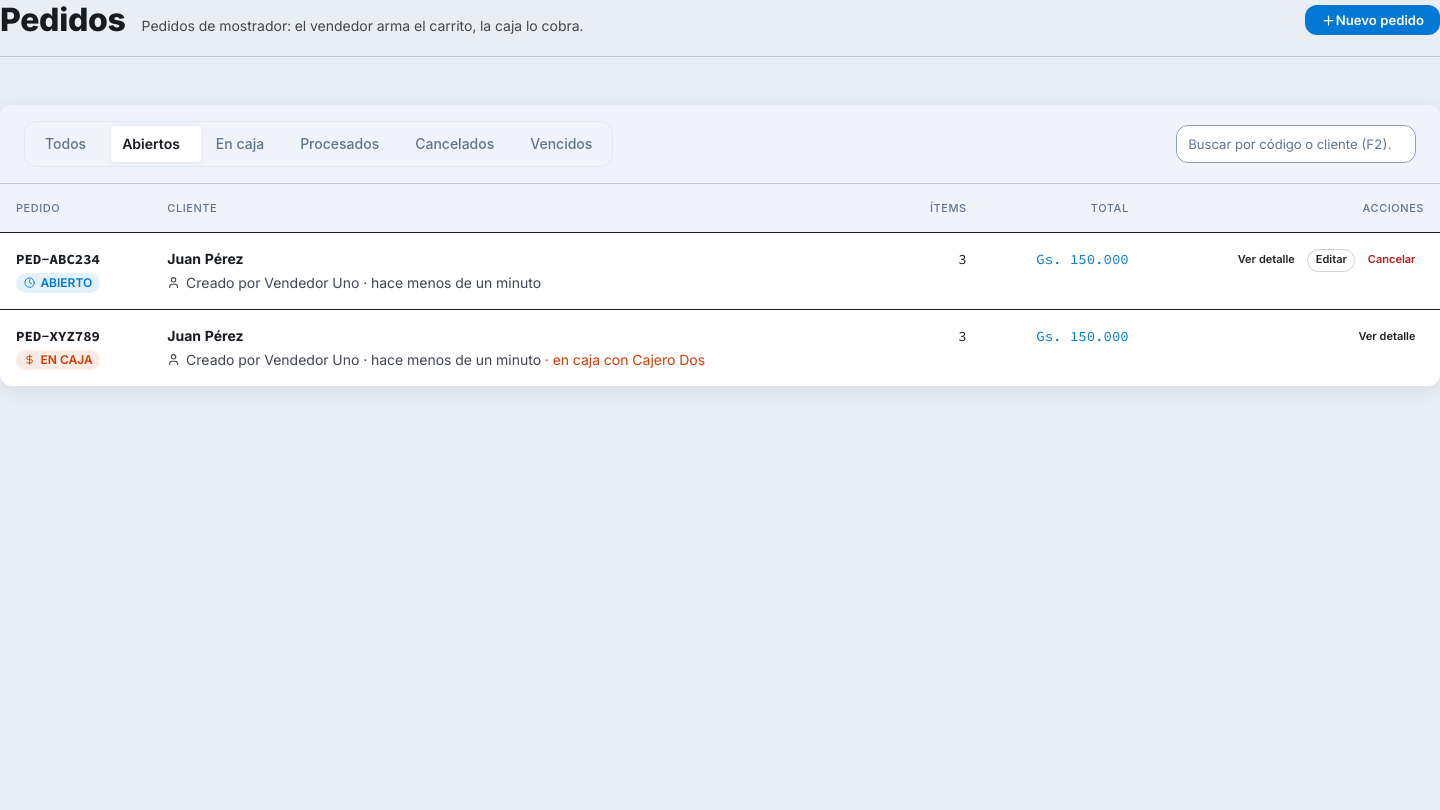
OrderBuilder — dropmenu de unidades vendibles + carrito en tabla › agrega la variante y el producto base como líneas distintas de la tabla
Click the button with test id "counterorders-new-button" at (1372, 20), box [1305,5,1439,35]
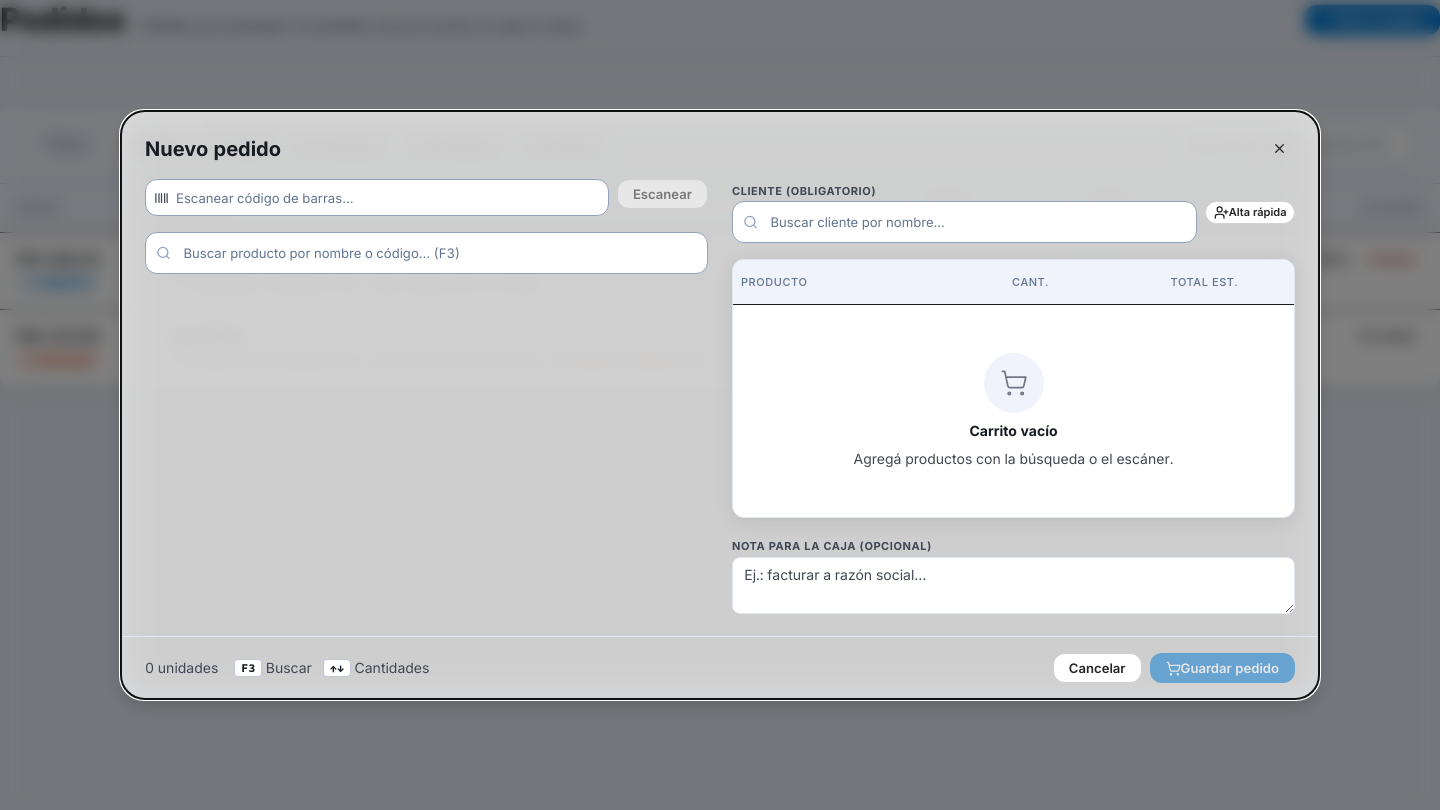
Type "cam" into the field with placeholder "Buscar producto por nombre o código… (F3)" at (426, 253), box [145,232,708,274]
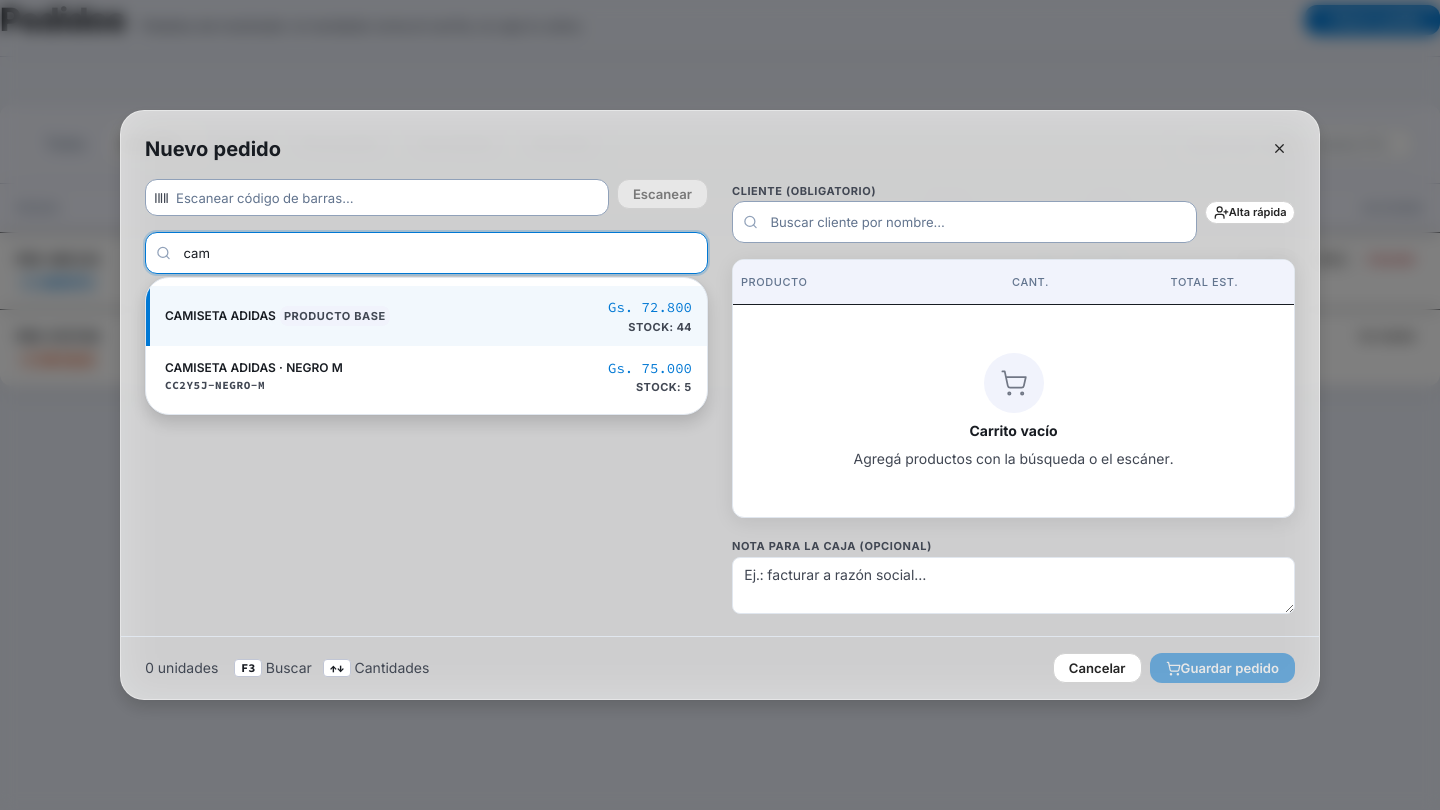
Click the button with test id "counterorder-pick-VAR-NEGRO" at (254, 367), box [146,346,707,407]
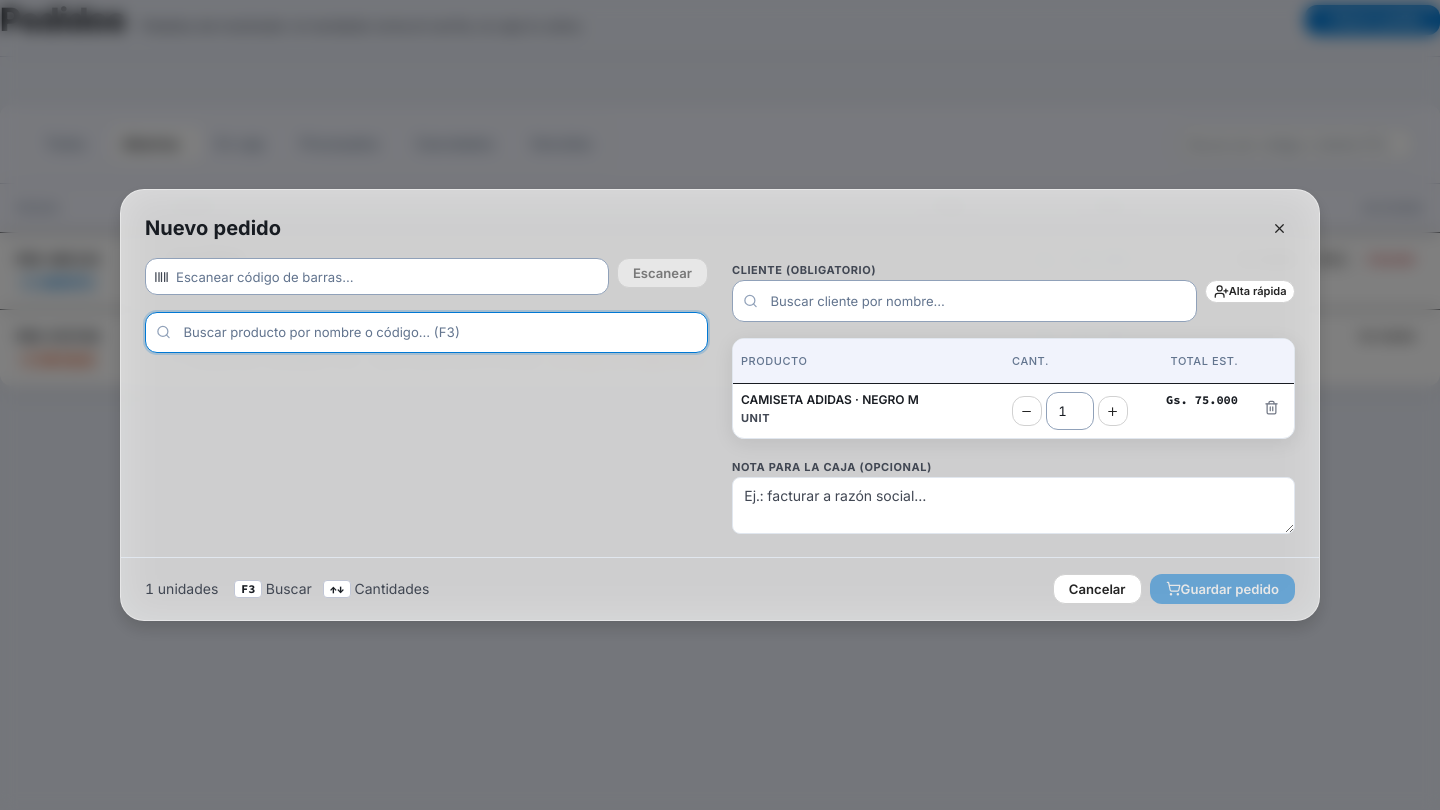
Expected: the table with test id "counterorder-builder-lines" shows "CAMISETA ADIDAS · NEGRO M", [741,392,919,407]
Type "cam" into the field with placeholder "Buscar producto por nombre o código… (F3)" at (426, 332), box [145,312,708,353]
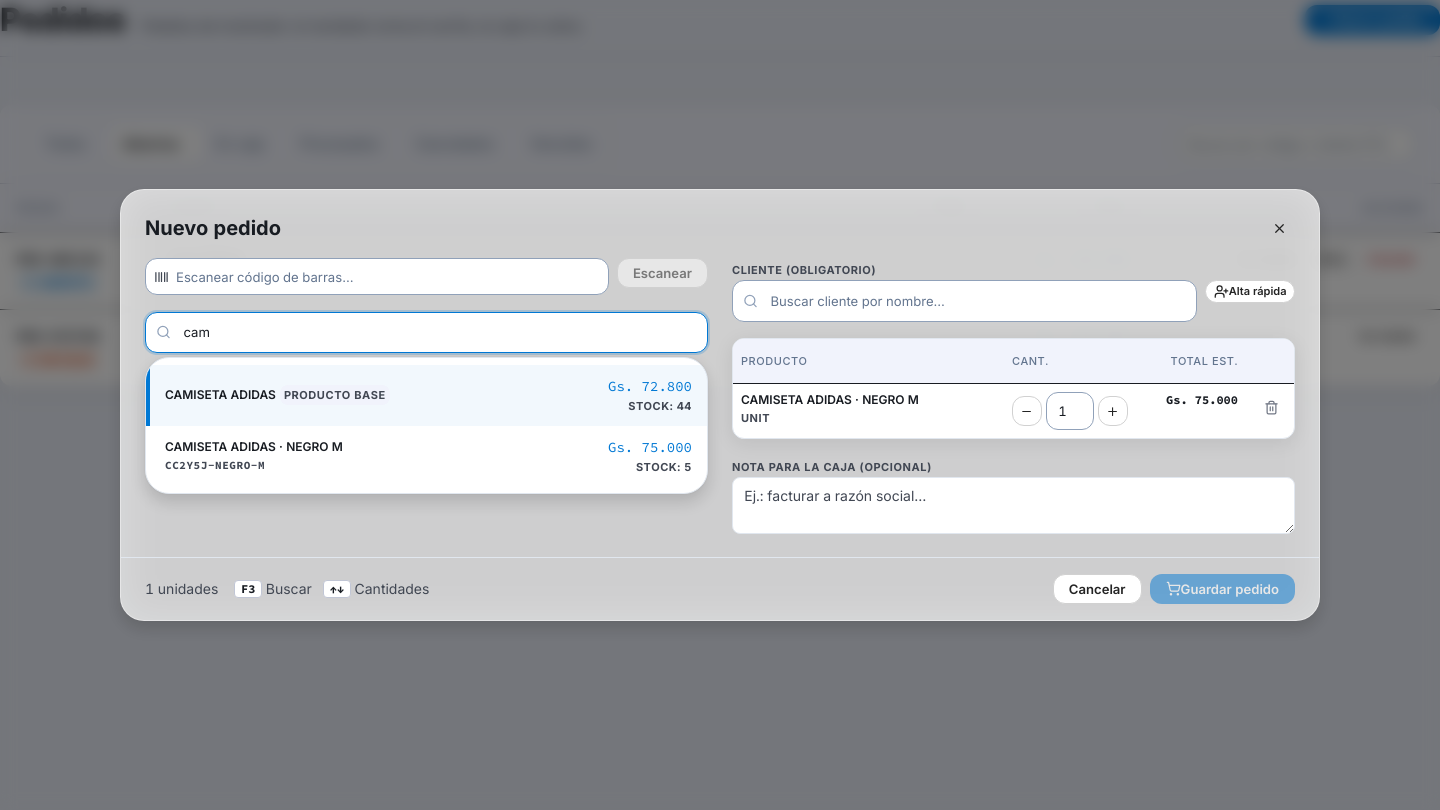
Click the button with test id "counterorder-pick-PROD-CAM" at (220, 395), box [146,365,707,426]
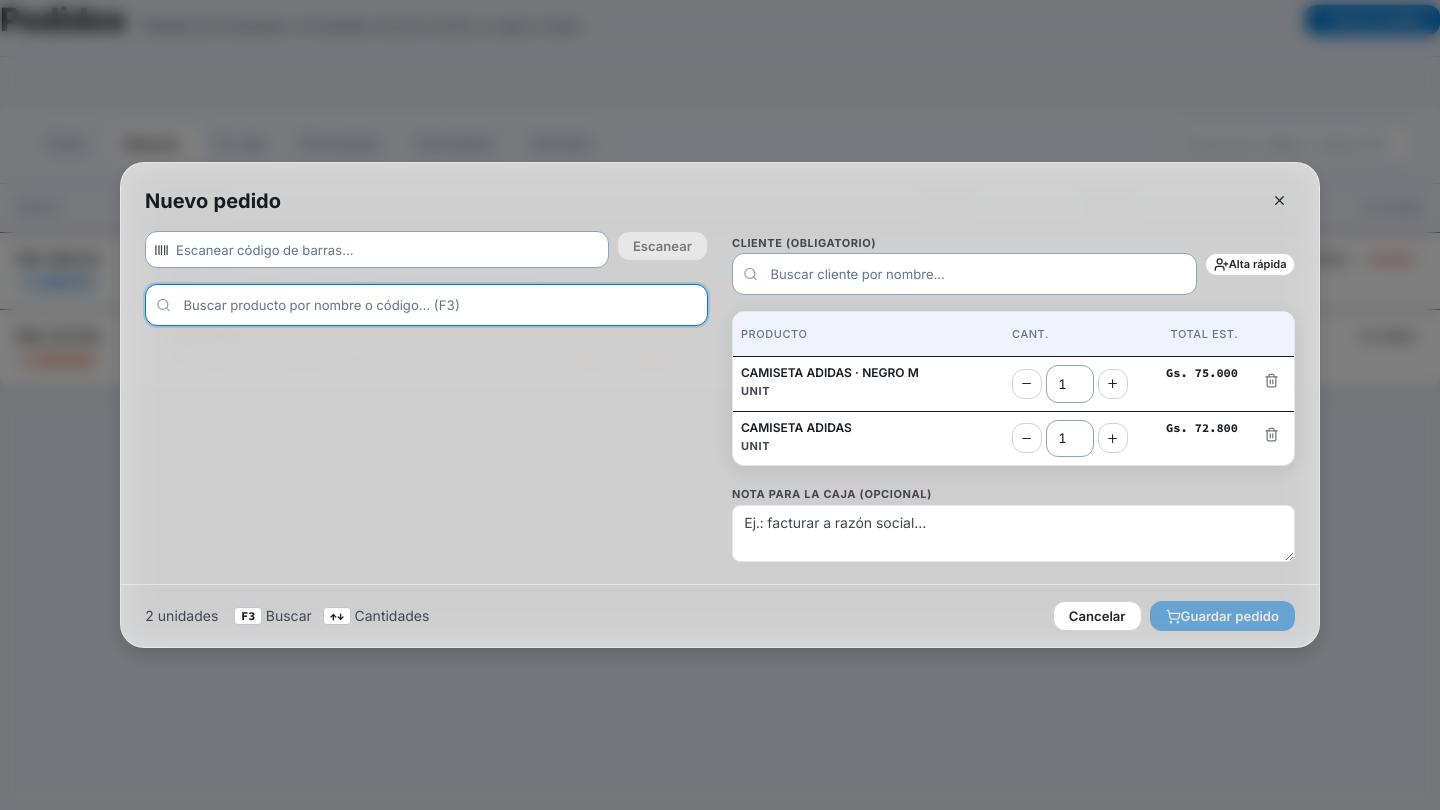
Expected: the table with test id "counterorder-builder-lines" shows "CAMISETA ADIDAS", [741,420,852,435]
Expected: the text with test id "counterorder-builder-units" reads "2 unidades", [145,607,218,624]
